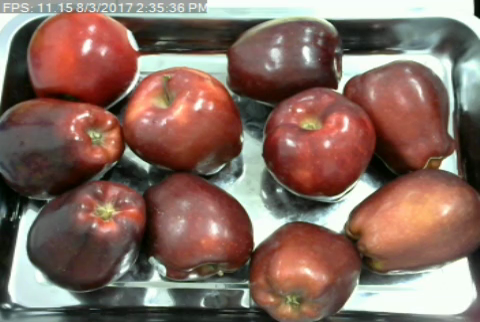Apple: (344, 166, 480, 276), (117, 64, 249, 176), (253, 86, 379, 201), (25, 175, 148, 291), (343, 57, 458, 173), (141, 169, 261, 280), (0, 91, 126, 195), (242, 217, 364, 322), (222, 13, 346, 106), (23, 11, 143, 106)
